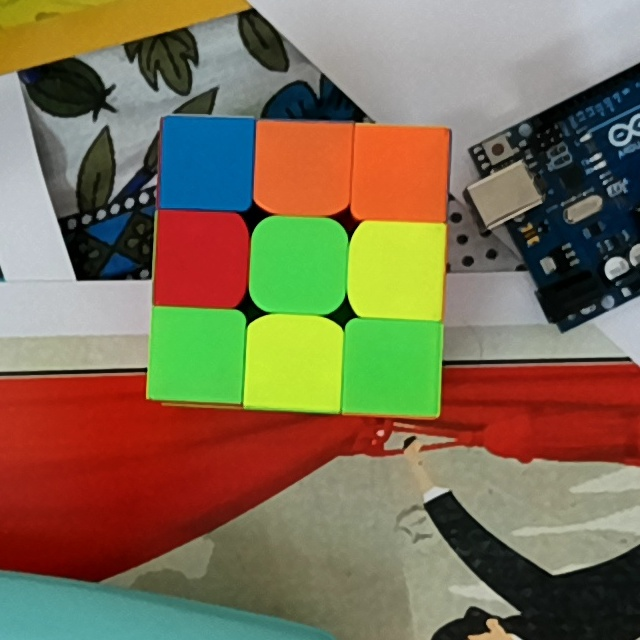tile: (351, 325, 435, 408), (358, 129, 439, 213), (261, 128, 344, 206), (152, 315, 237, 391), (168, 122, 247, 201), (255, 325, 334, 404), (161, 219, 239, 298), (359, 232, 435, 310), (262, 226, 336, 306)
